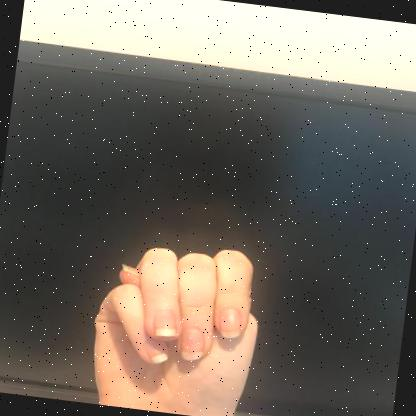M: (95, 247, 258, 411)
